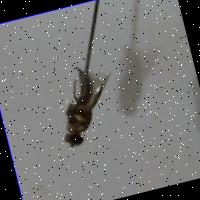Oriental-fruit-fly: (34, 51, 136, 158)
